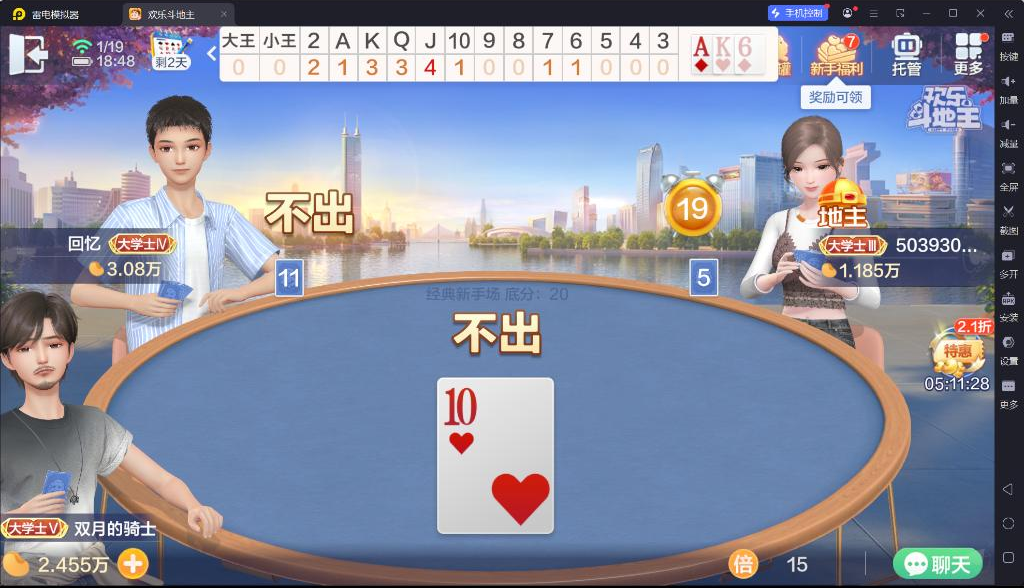A: (692, 35, 711, 57)
K: (715, 36, 732, 58)
six: (737, 35, 753, 57)
ten: (442, 381, 479, 427)
